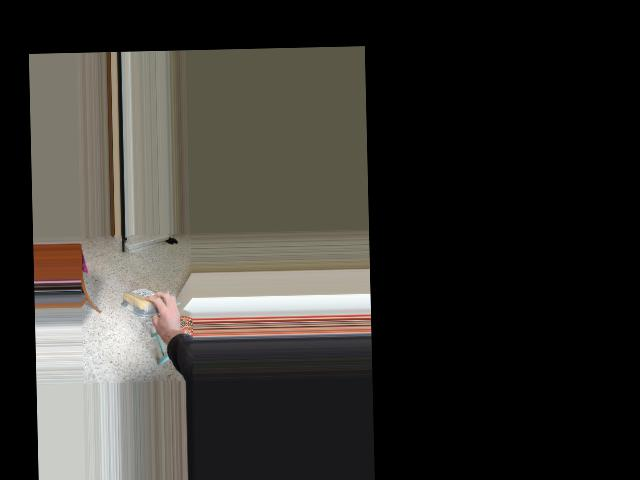cheese: (119, 284, 173, 318)
